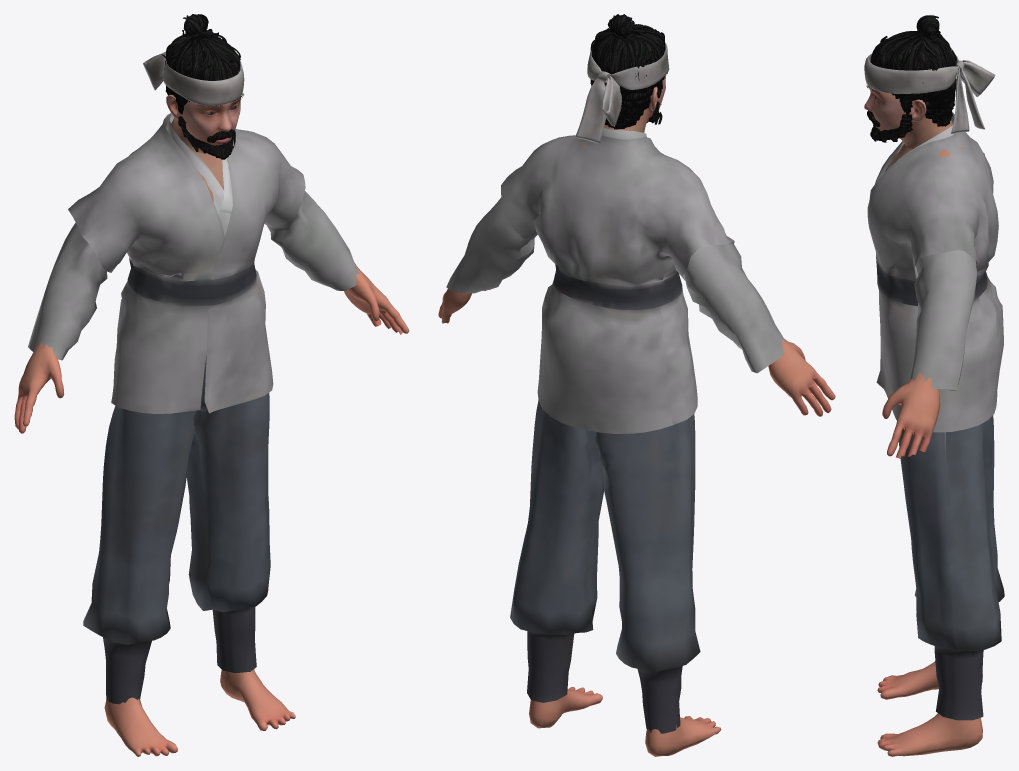
The model's file is citizen2.fbx.
3 renders of one model, left to right at view 1: azimuth 30°, elevation 25°; view 2: azimuth 150°, elevation 25°; view 3: azimuth 270°, elevation 25°, orthographic.
Visible parts, largest first — view 1: NPC_Citizen2_Mesh_0; view 2: NPC_Citizen2_Mesh_0; view 3: NPC_Citizen2_Mesh_0.
Boxes of the visible parts, x1=… form: NPC_Citizen2_Mesh_0: x1=14, y1=14, x2=409, y2=756; NPC_Citizen2_Mesh_0: x1=438, y1=14, x2=835, y2=756; NPC_Citizen2_Mesh_0: x1=864, y1=15, x2=1004, y2=756.
Bounding box in the file's own units: 99.92 × 176 × 31.86.
Materials: 2 (2 with a texture image).
